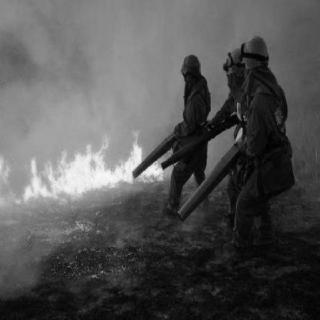Smoke: (4, 9, 163, 122)
